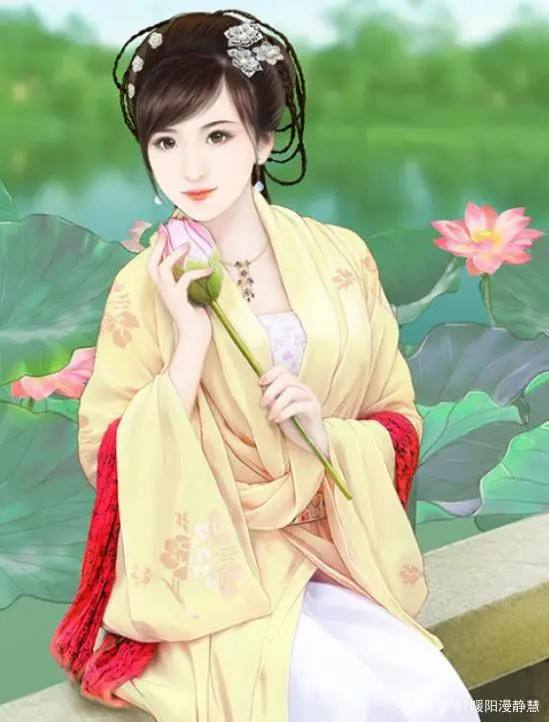person: (99, 17, 341, 275)
